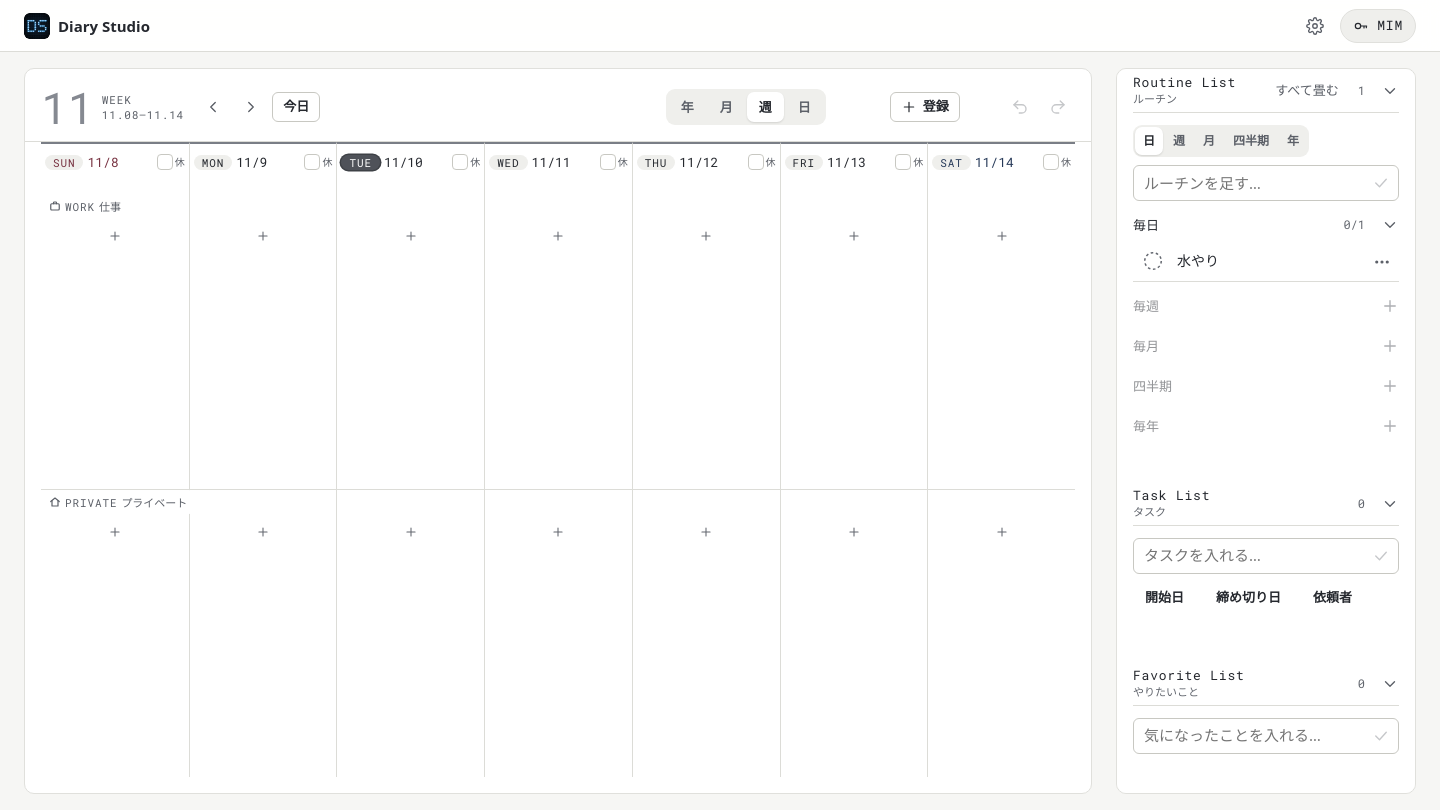
Test: S3 日が替わると、記録を書かずに戻る（14.3・6.4。S3-ROUTINE-063〜066・069・072・S3-FRAME-268） › 知らない種類の記録は毎日のかたまりに出す。件名を直す時は件名だけを渡す（種類は書き換えない。6.12）
The width and height of the screenshot is (1440, 810).
Click the button "水やり": (1269, 261) x1=1177 y1=241 x2=1361 y2=281
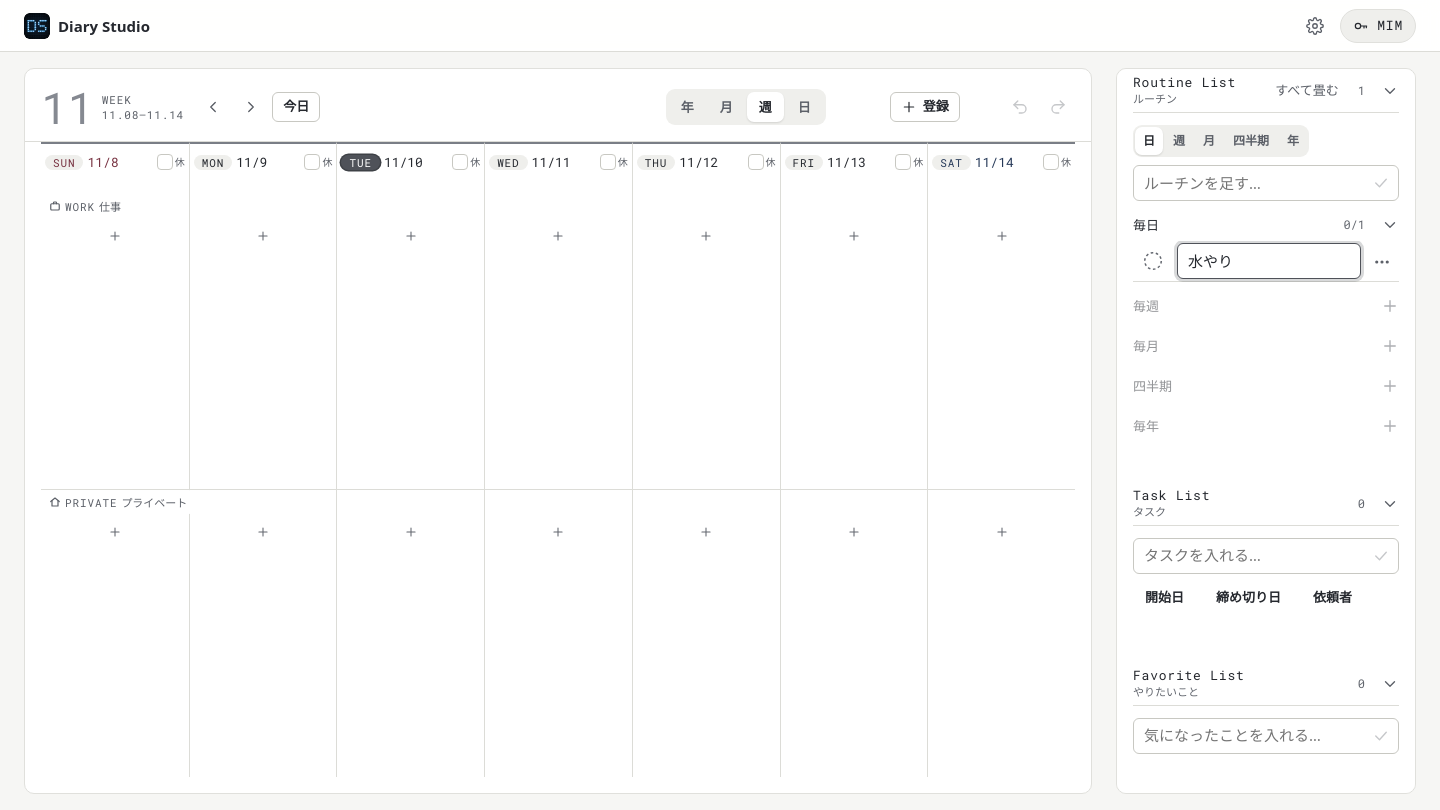
In the field named "件名": (1269, 261) x1=1177 y1=243 x2=1361 y2=279, type "！"
Then press Enter
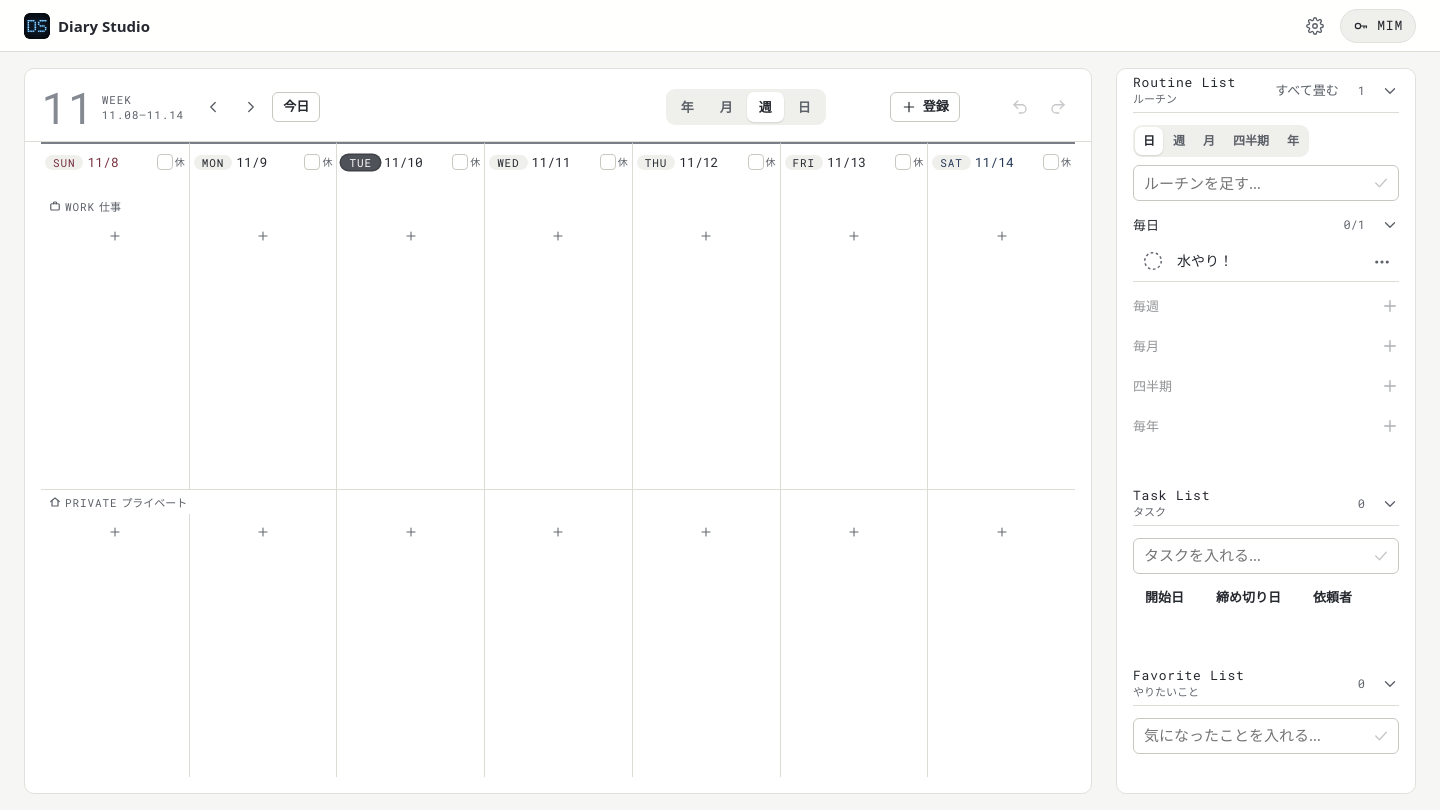
Check: the button "水やり！" is shown, box x1=1177 y1=241 x2=1361 y2=281
